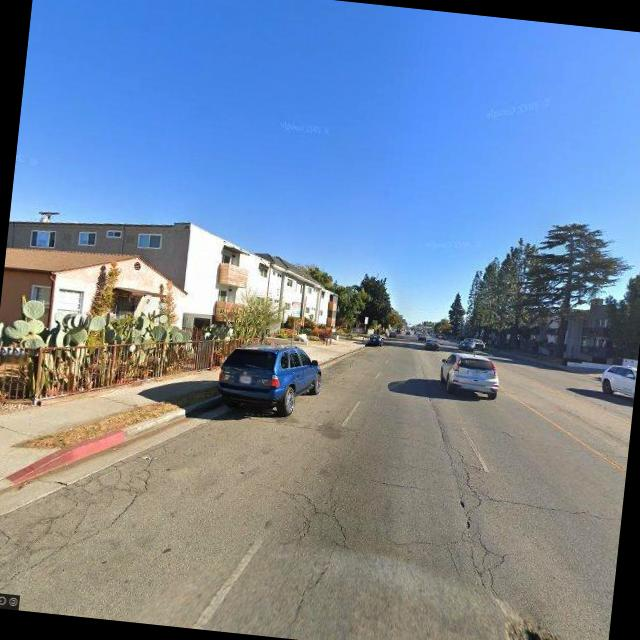crack: (0, 433, 165, 611), (416, 428, 526, 596), (270, 480, 358, 552), (490, 488, 623, 524), (365, 472, 425, 491)
pothole: (496, 611, 591, 640)
